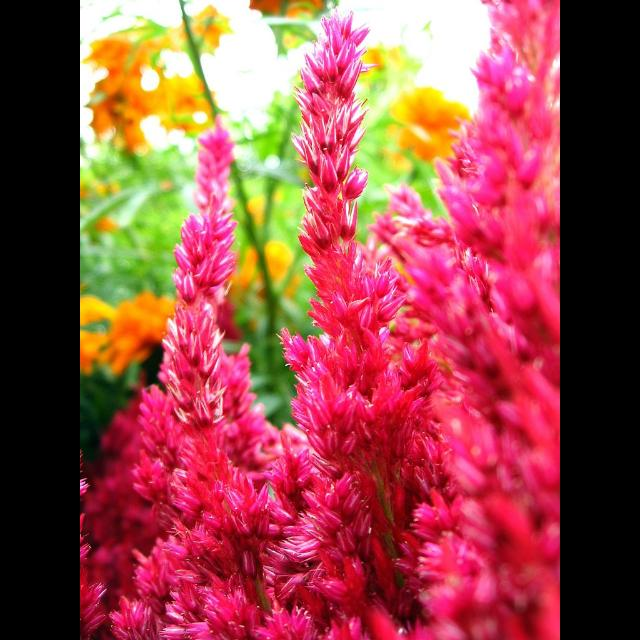Flower: (80, 1, 560, 640), (278, 4, 418, 636)
